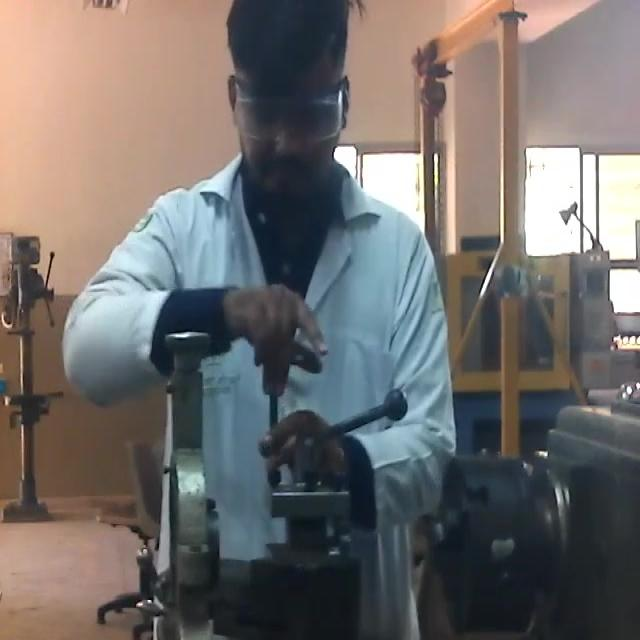googles: (234, 83, 344, 142)
labcoat: (60, 146, 456, 640)
